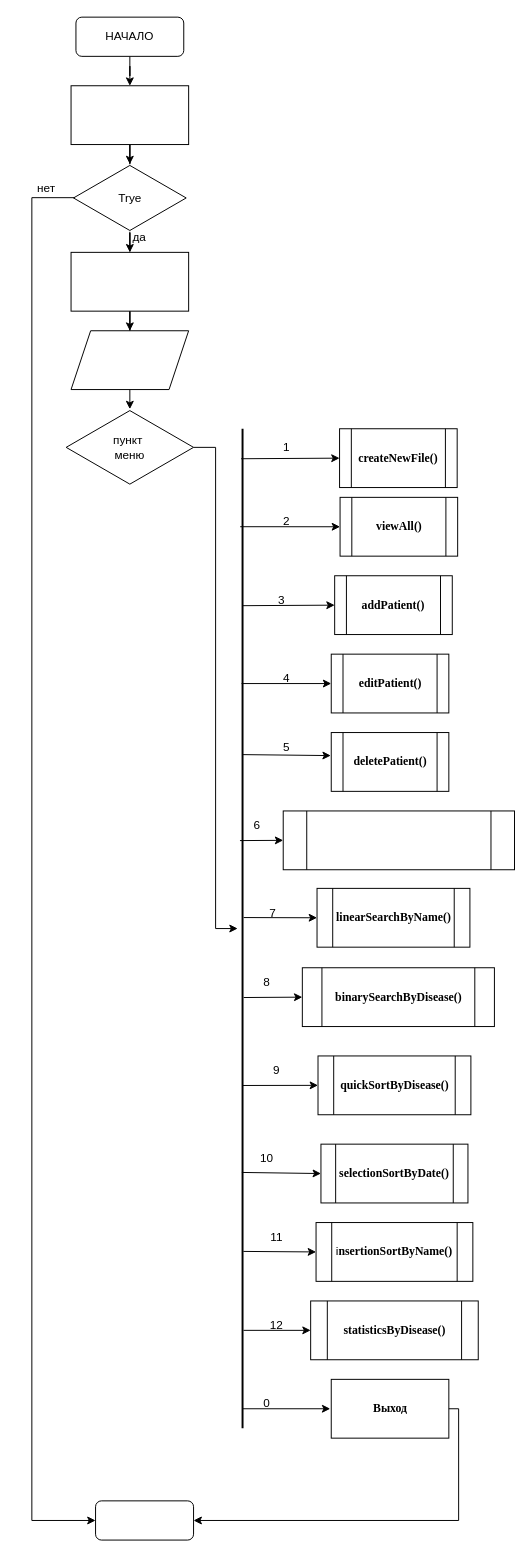
The diagram is 531 pixels wide and 1557 high, and some of its shapes have lost their labels. The centre of each missing label's shape, as x and y in pixels:
"reportPatientsByDiseaseAfterDate()" goes at [398,840].
"Ввод пунктов меню" goes at [129,360].
"Вывод пунктов меню" goes at [129,281].
"Загрузка данных из Patients.txt" goes at [129,115].
"КОНЕЦ" goes at [144,1520].
